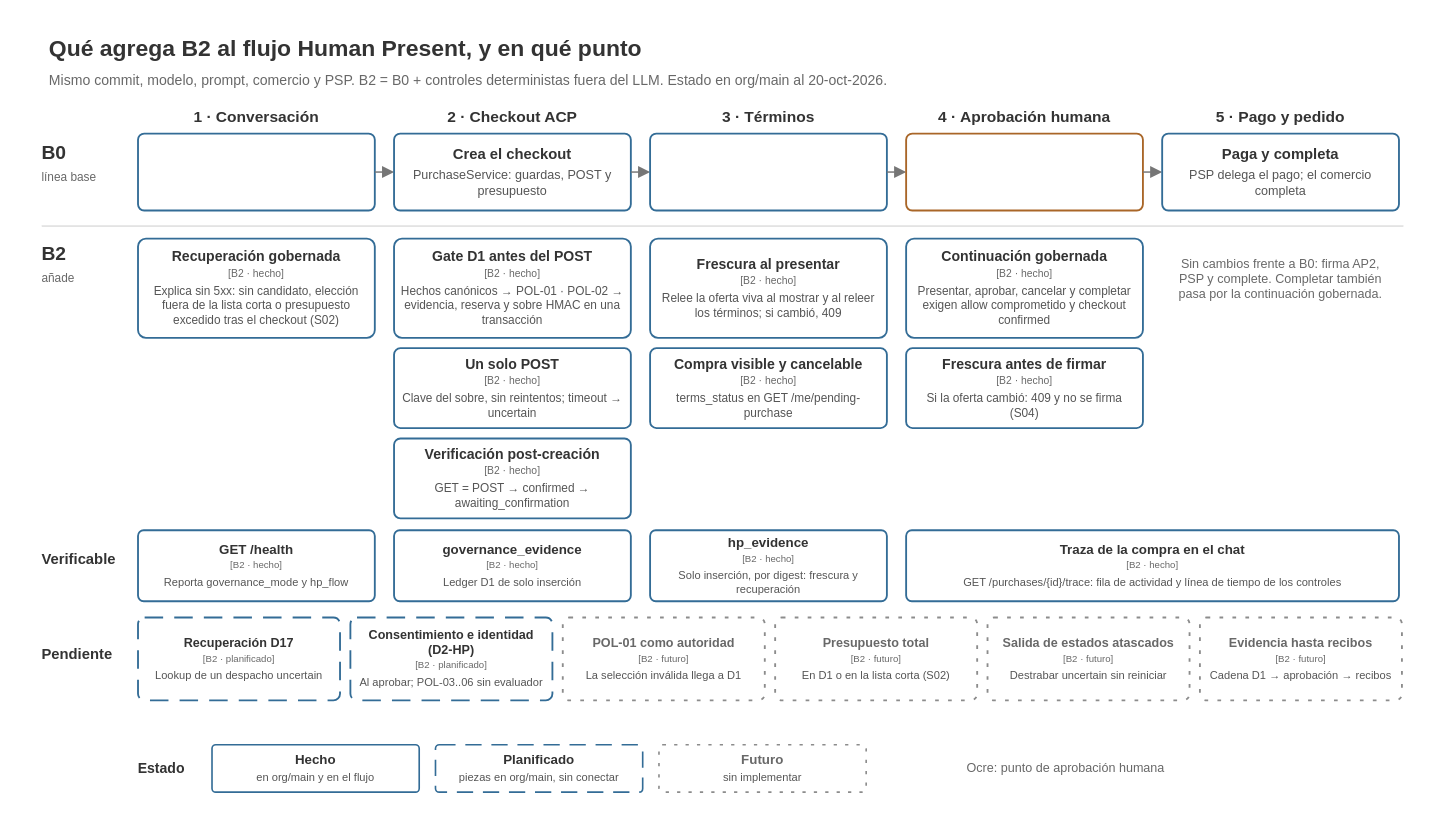
Some shapes in this 1444 by 823 pixel diagram are drawn without their labels. Each missing label, with the centre of its shape:
Aprueba y firma Clic humano; ApprovalService firma AP2: point 1024,171
Conversa y propone LangGraph + LLM no confiable; filtros duros: point 256,171
Presenta términos Términos cerrados con huella HMAC: point 768,171
